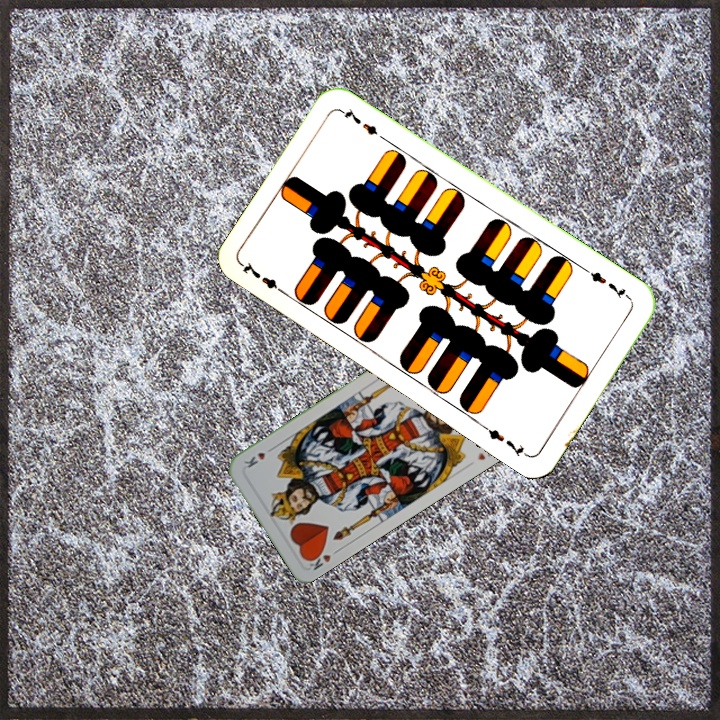E7: (238, 258, 290, 299), (581, 264, 633, 303)
HK: (302, 545, 342, 573)
